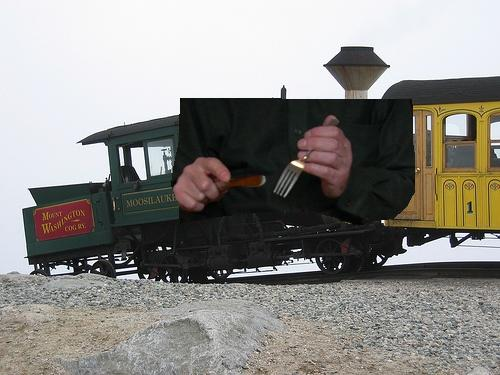tampered: (172, 99, 415, 225)
